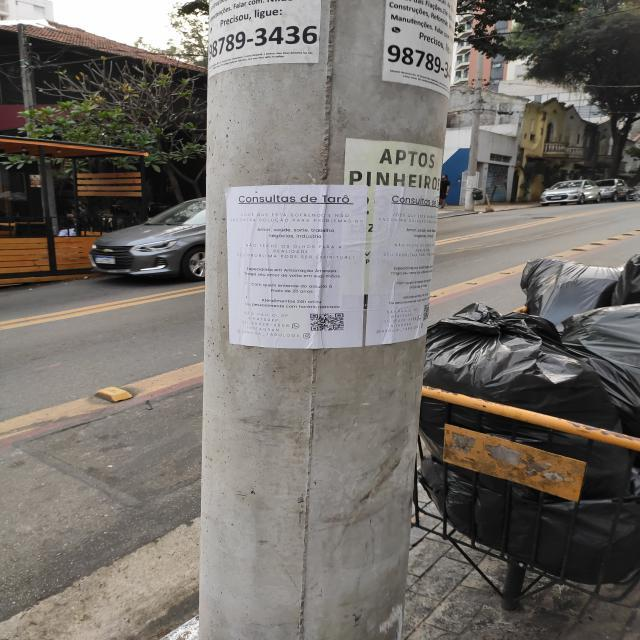qrcode: (311, 314, 345, 332), (424, 304, 430, 322)
